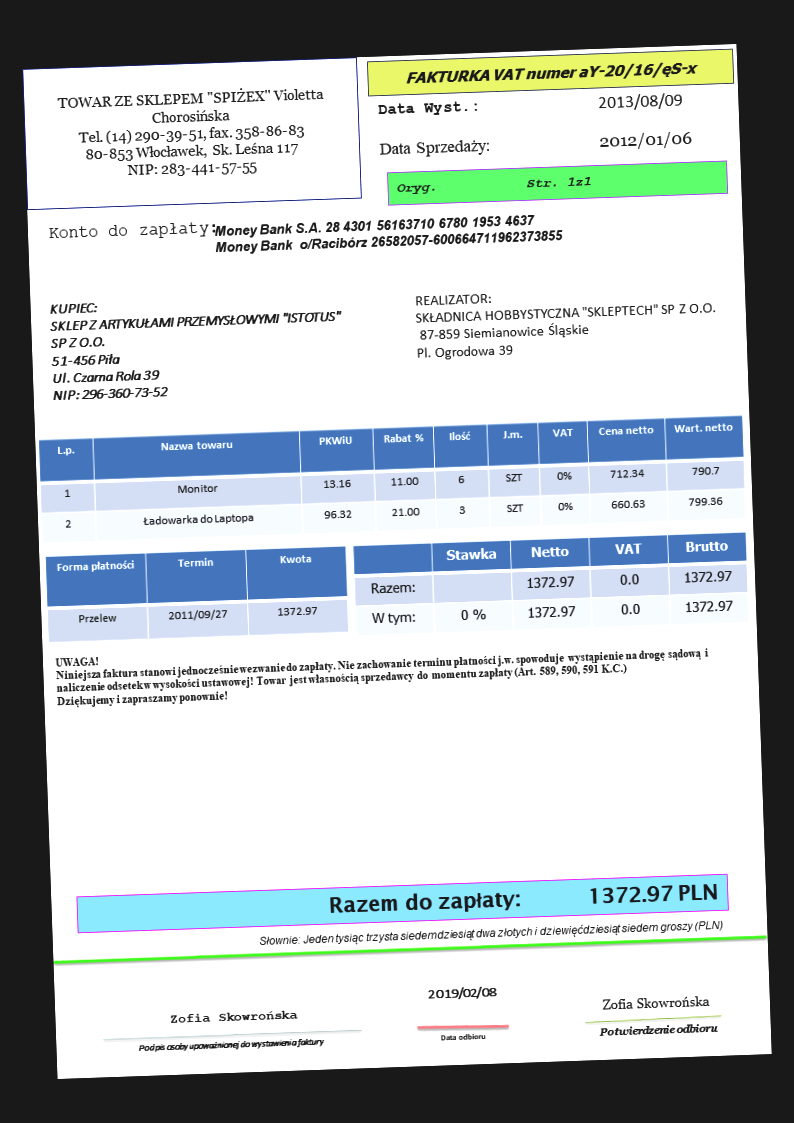Table: (37, 412, 749, 545), (351, 530, 751, 639), (44, 544, 351, 644)
TextBox: (51, 628, 715, 711), (46, 290, 348, 407), (50, 82, 331, 187), (409, 280, 720, 364), (324, 874, 720, 921), (255, 915, 725, 950), (210, 210, 566, 256), (403, 54, 704, 88), (393, 169, 596, 197), (44, 218, 217, 245), (135, 1034, 328, 1054), (167, 1006, 301, 1027), (373, 94, 481, 120), (374, 135, 491, 159), (599, 991, 716, 1013), (594, 127, 694, 152), (595, 87, 687, 114), (595, 1022, 721, 1039), (424, 982, 501, 1002), (437, 1028, 489, 1047)
